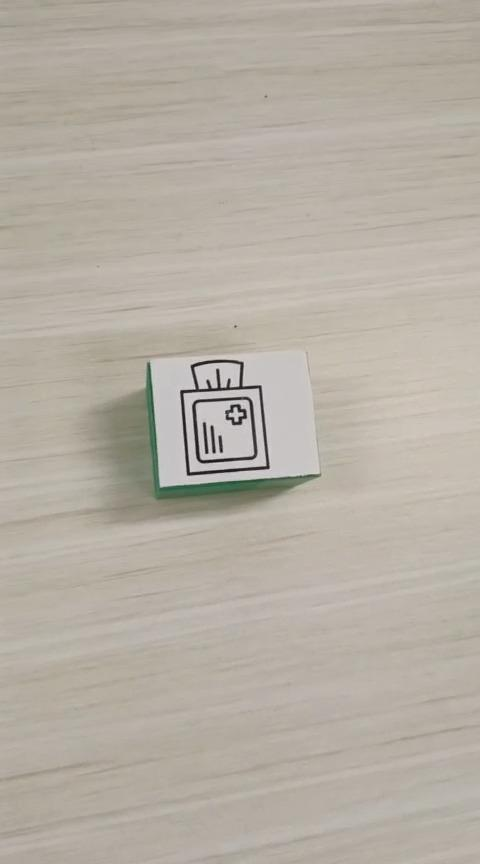Gauze: (144, 346, 321, 499)
